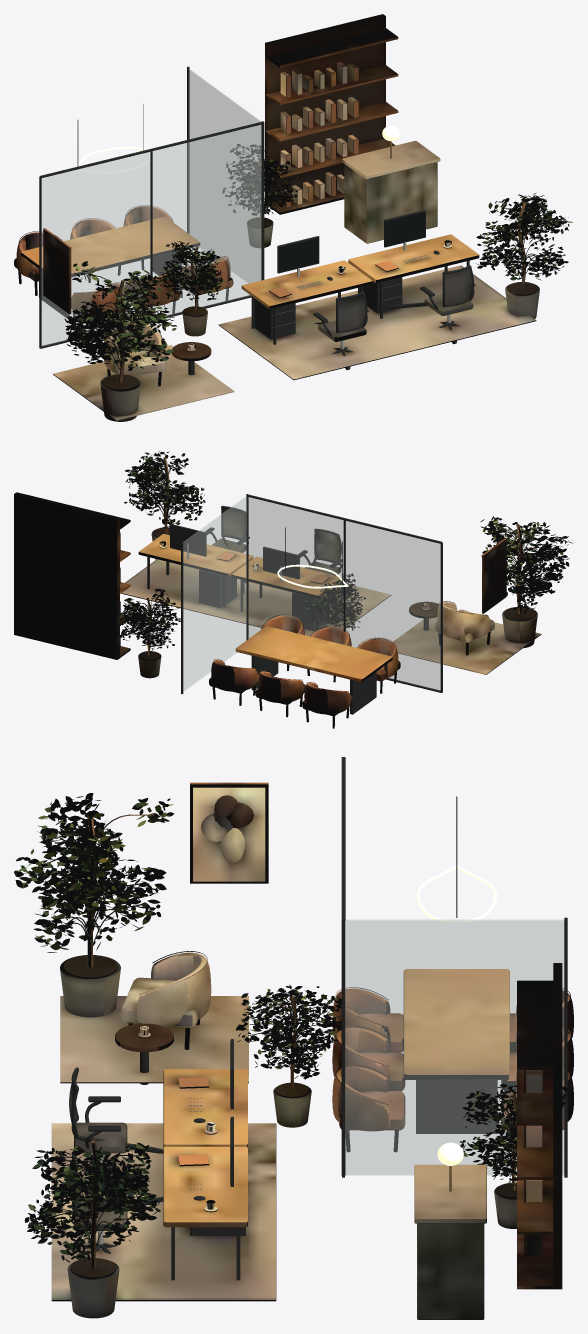
Rendered from office.glb.
3 views of the same model, one above another, from view 1: azimuth 30°, elevation 25°; view 2: azimuth 150°, elevation 25°; view 3: azimuth 270°, elevation 25° (orthographic). The views are drawn at different scales.
Parts seen in each view (by area): view 1: InteriorGeometry; view 2: InteriorGeometry; view 3: InteriorGeometry.
Boxes of the visible parts, x1,y1,x2,y2 form: InteriorGeometry: (14,14,572,421); InteriorGeometry: (14,451,573,728); InteriorGeometry: (14,757,573,1319).
Bounding box in the file's own units: 8.36 × 3.03 × 5.49.
Materials: 21 (14 with a texture image).
